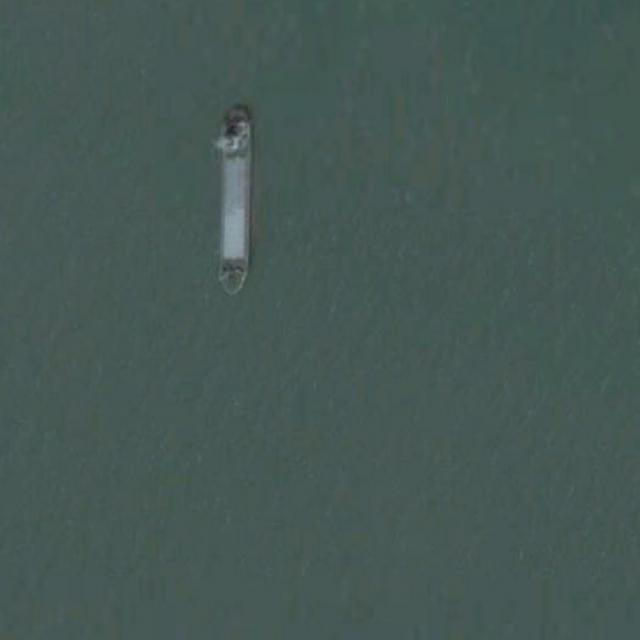ship: (212, 99, 254, 298)
